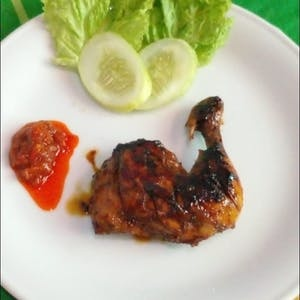ayam_goreng: (89, 100, 250, 248)
